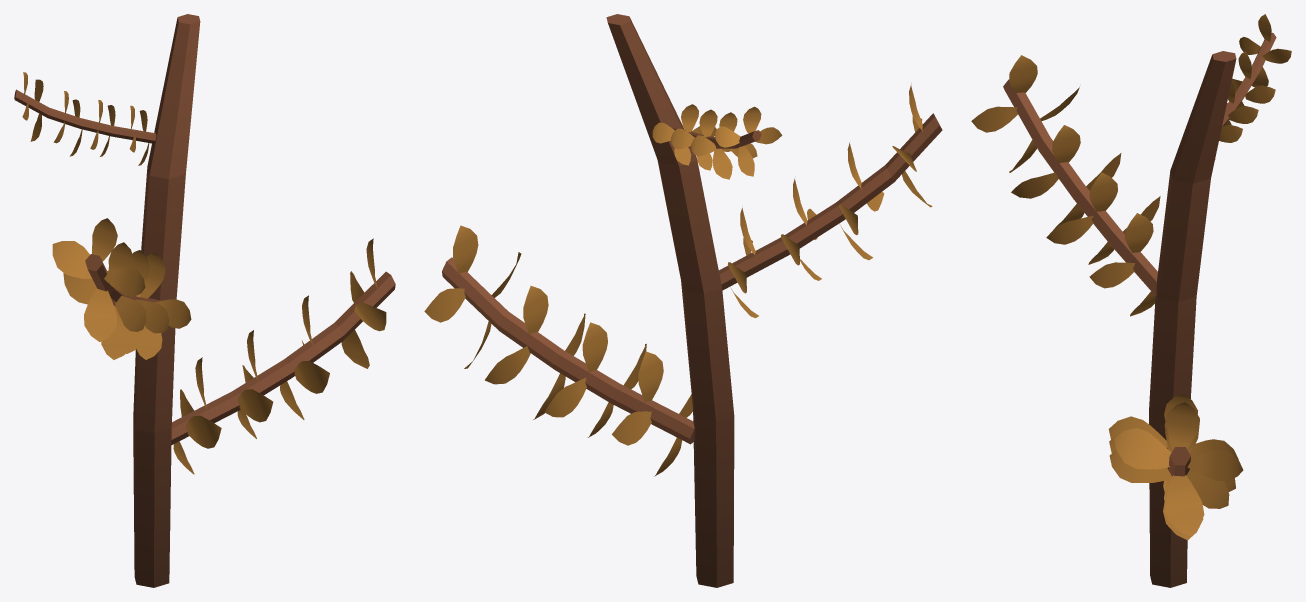
Rendered from plant02.fbx.
3 renders of one model, left to right at view 1: azimuth 30°, elevation 25°; view 2: azimuth 150°, elevation 25°; view 3: azimuth 270°, elevation 25°, orthographic. The views are drawn at different scales.
Parts seen in each view (by area): view 1: Plant02; view 2: Plant02; view 3: Plant02.
Boxes of the visible parts, x1=… form: Plant02: x1=14, y1=14, x2=395, y2=587; Plant02: x1=424, y1=14, x2=942, y2=587; Plant02: x1=971, y1=14, x2=1291, y2=587.
Bounding box in the file's own units: 75.4 × 97.58 × 51.02.
